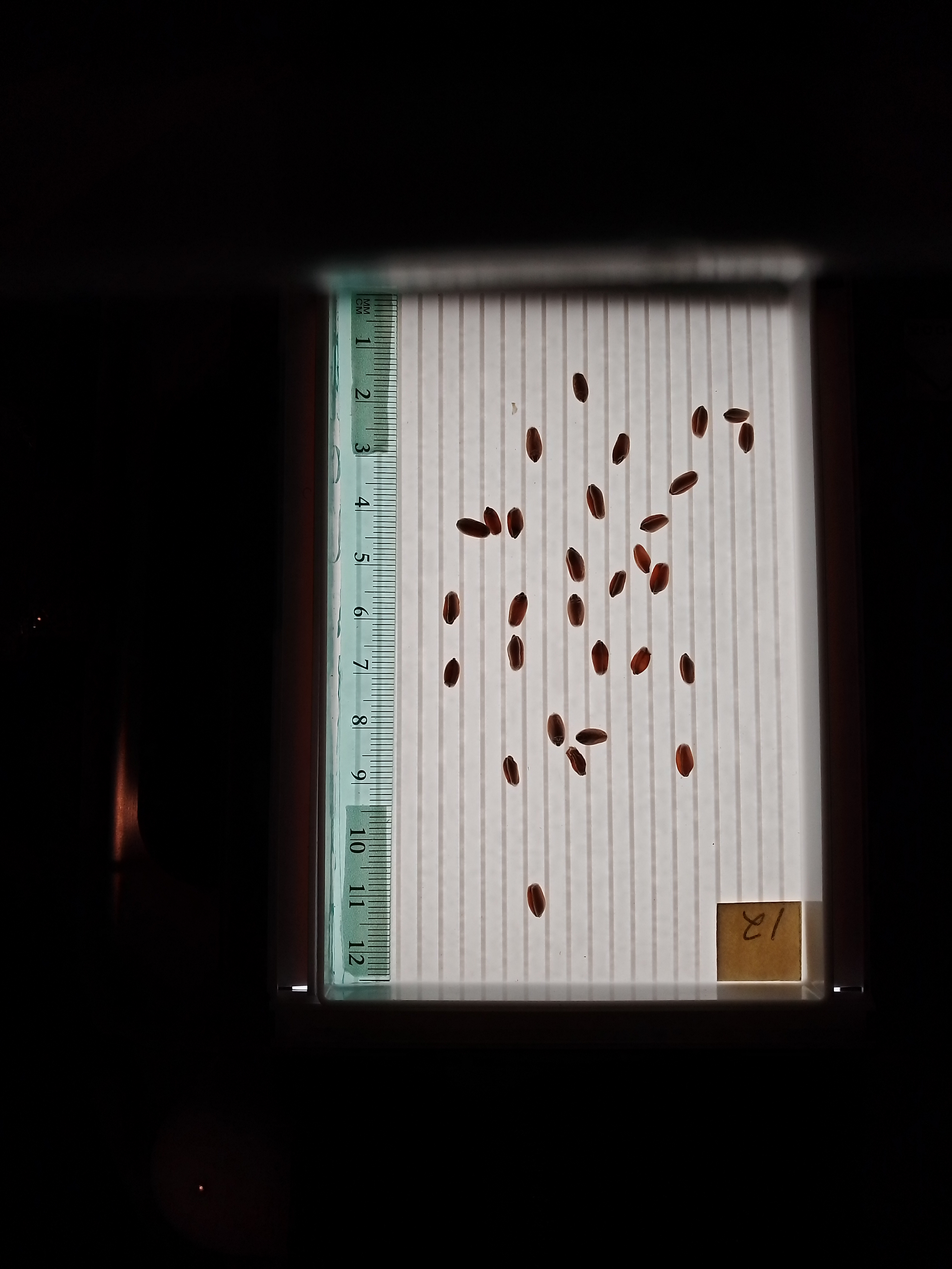seed mask: (670, 472, 698, 496), (566, 548, 585, 582), (458, 518, 490, 538), (587, 484, 605, 519), (527, 884, 545, 917), (650, 563, 669, 594), (509, 595, 528, 626), (526, 427, 543, 461), (507, 636, 524, 670), (567, 595, 585, 627), (592, 641, 609, 674), (547, 715, 565, 746), (502, 755, 520, 786), (612, 434, 630, 464), (567, 748, 586, 776), (443, 593, 460, 624), (676, 745, 693, 776), (631, 648, 651, 674), (507, 508, 524, 538), (641, 515, 668, 533), (484, 508, 502, 535), (577, 729, 607, 745), (634, 545, 651, 573), (692, 407, 708, 436), (738, 424, 754, 453), (609, 571, 626, 597), (573, 373, 588, 402), (680, 655, 695, 684), (444, 660, 460, 687), (725, 408, 749, 423)
